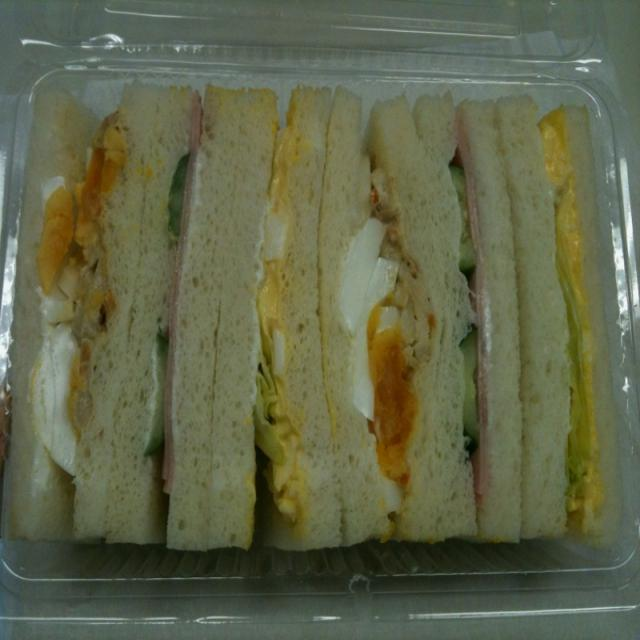sandwiches: (0, 73, 617, 572)
